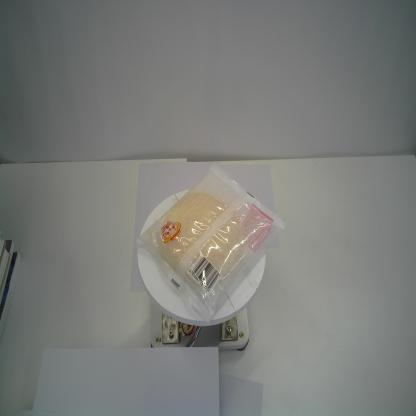Dessert: (136, 160, 285, 327)
